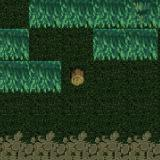Obstacle: (61, 62, 93, 94)
Slow: (29, 0, 160, 29), (0, 61, 61, 94), (93, 30, 158, 60), (0, 29, 28, 61)
